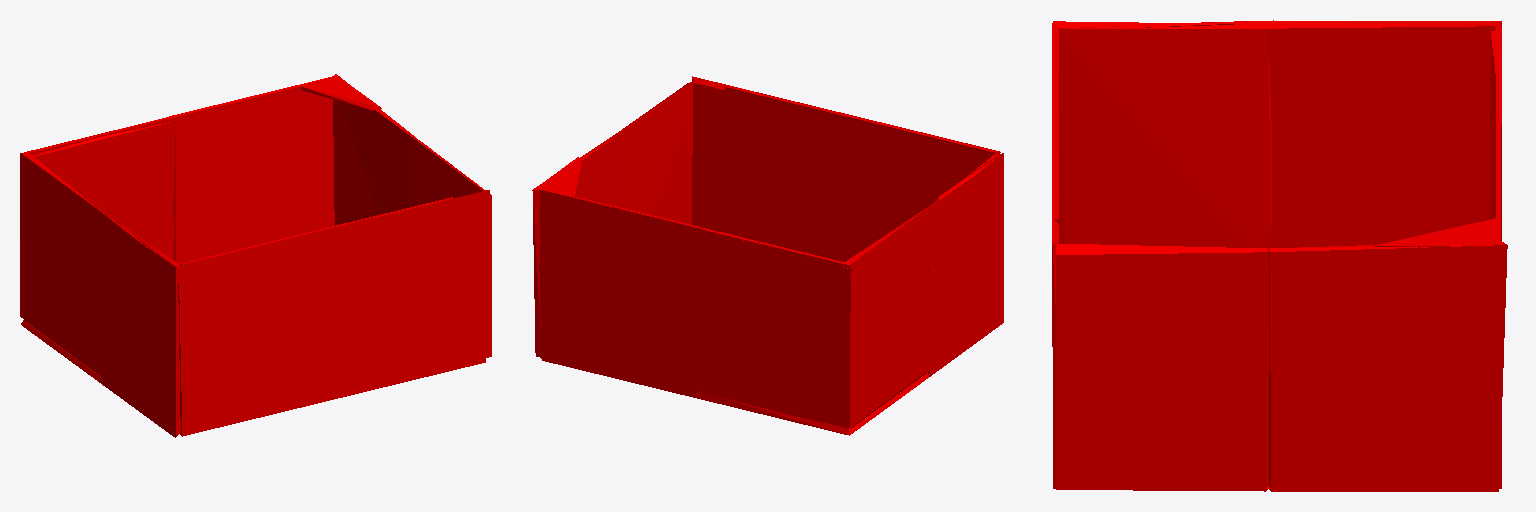
robot.urdf — root:
<robot name="root">
  <link name="link_openbox_convex_piece_0">

    <contact>
      <lateral_friction value="1.0"/>
      <rolling_friction value="0.0"/>
      <inertia_scaling value="3.0"/>
      <contact_cfm value="0.0"/>
      <contact_erp value="1.0"/>
    </contact>

    <inertial>
      <origin rpy="0 0 0" xyz="0 0 0"/>
      <mass value="0.1"/>
      <inertia ixx="-4.46E-06" ixy="-4.55E-07" ixz="1.95E-06" iyy="-2.47E-06" iyz="8.51E-08" izz="2.17E-06"/>
    </inertial>
    <visual>
      <origin rpy="0 0 0" xyz="0 0 0"/>
      <geometry>
        <mesh filename="openbox_convex_piece_0.obj" scale="1.0000E+00 1.0000E+00 1.0000E+00"/>
      </geometry>
      <material name="">
        <color rgba="1 0 0 1"/>
      </material>
    </visual>
    <collision>
      <origin rpy="0 0 0" xyz="0 0 0"/>
      <geometry>
        <mesh filename="openbox_convex_piece_0.obj" scale="1.0000E+00 1.0000E+00 1.0000E+00"/>
      </geometry>
    </collision>
  </link>

  <link name="link_openbox_convex_piece_1">
    <inertial>
      <origin rpy="0 0 0" xyz="0 0 0"/>
      <mass value="8.54E-11"/>
      <inertia ixx="-3.41E-07" ixy="-9.73E-07" ixz="3.02E-06" iyy="1.82E-07" iyz="-1.06E-06" izz="2.38E-06"/>
    </inertial>
    <visual>
      <origin rpy="0 0 0" xyz="0 0 0"/>
      <geometry>
        <mesh filename="openbox_convex_piece_1.obj" scale="1.0000E+00 1.0000E+00 1.0000E+00"/>
      </geometry>
      <material name="">
        <color rgba="1 0 0 1"/>
      </material>
    </visual>
    <collision>
      <origin rpy="0 0 0" xyz="0 0 0"/>
      <geometry>
        <mesh filename="openbox_convex_piece_1.obj" scale="1.0000E+00 1.0000E+00 1.0000E+00"/>
      </geometry>
    </collision>
  </link>

  <joint name="link_openbox_convex_piece_1_joint" type="fixed">
    <origin rpy="0 0 0" xyz="0 0 0"/>
    <parent link="link_openbox_convex_piece_0"/>
    <child link="link_openbox_convex_piece_1"/>
  </joint>

  <link name="link_openbox_convex_piece_3">
    <inertial>
      <origin rpy="0 0 0" xyz="0 0 0"/>
      <mass value="9.26E-11"/>
      <inertia ixx="6.00E-06" ixy="-7.64E-06" ixz="1.70E-06" iyy="3.52E-06" iyz="-2.53E-07" izz="1.51E-05"/>
    </inertial>
    <visual>
      <origin rpy="0 0 0" xyz="0 0 0"/>
      <geometry>
        <mesh filename="openbox_convex_piece_3.obj" scale="1.0000E+00 1.0000E+00 1.0000E+00"/>
      </geometry>
      <material name="">
        <color rgba="1 0 0 1"/>
      </material>
    </visual>
    <collision>
      <origin rpy="0 0 0" xyz="0 0 0"/>
      <geometry>
        <mesh filename="openbox_convex_piece_3.obj" scale="1.0000E+00 1.0000E+00 1.0000E+00"/>
      </geometry>
    </collision>
  </link>

  <joint name="link_openbox_convex_piece_3_joint" type="fixed">
    <origin rpy="0 0 0" xyz="0 0 0"/>
    <parent link="link_openbox_convex_piece_1"/>
    <child link="link_openbox_convex_piece_3"/>
  </joint>

  <link name="link_openbox_convex_piece_4">
    <inertial>
      <origin rpy="0 0 0" xyz="0 0 0"/>
      <mass value="1.62E-10"/>
      <inertia ixx="1.40E-05" ixy="-7.57E-06" ixz="6.10E-06" iyy="9.20E-07" iyz="-7.28E-06" izz="1.99E-05"/>
    </inertial>
    <visual>
      <origin rpy="0 0 0" xyz="0 0 0"/>
      <geometry>
        <mesh filename="openbox_convex_piece_4.obj" scale="1.0000E+00 1.0000E+00 1.0000E+00"/>
      </geometry>
      <material name="">
        <color rgba="1 0 0 1"/>
      </material>
    </visual>
    <collision>
      <origin rpy="0 0 0" xyz="0 0 0"/>
      <geometry>
        <mesh filename="openbox_convex_piece_4.obj" scale="1.0000E+00 1.0000E+00 1.0000E+00"/>
      </geometry>
    </collision>
  </link>

  <joint name="link_openbox_convex_piece_4_joint" type="fixed">
    <origin rpy="0 0 0" xyz="0 0 0"/>
    <parent link="link_openbox_convex_piece_3"/>
    <child link="link_openbox_convex_piece_4"/>
  </joint>

  <link name="link_openbox_convex_piece_5">
    <inertial>
      <origin rpy="0 0 0" xyz="0 0 0"/>
      <mass value="8.19E-11"/>
      <inertia ixx="-3.14E-07" ixy="8.84E-07" ixz="-1.99E-07" iyy="-5.76E-08" iyz="-1.02E-06" izz="2.07E-06"/>
    </inertial>
    <visual>
      <origin rpy="0 0 0" xyz="0 0 0"/>
      <geometry>
        <mesh filename="openbox_convex_piece_5.obj" scale="1.0000E+00 1.0000E+00 1.0000E+00"/>
      </geometry>
      <material name="">
        <color rgba="1 0 0 1"/>
      </material>
    </visual>
    <collision>
      <origin rpy="0 0 0" xyz="0 0 0"/>
      <geometry>
        <mesh filename="openbox_convex_piece_5.obj" scale="1.0000E+00 1.0000E+00 1.0000E+00"/>
      </geometry>
    </collision>
  </link>

  <joint name="link_openbox_convex_piece_5_joint" type="fixed">
    <origin rpy="0 0 0" xyz="0 0 0"/>
    <parent link="link_openbox_convex_piece_4"/>
    <child link="link_openbox_convex_piece_5"/>
  </joint>

  <link name="link_openbox_convex_piece_6">
    <inertial>
      <origin rpy="0 0 0" xyz="0 0 0"/>
      <mass value="4.02E-12"/>
      <inertia ixx="6.30E-07" ixy="-6.57E-08" ixz="4.44E-08" iyy="-3.40E-08" iyz="2.11E-07" izz="7.64E-07"/>
    </inertial>
    <visual>
      <origin rpy="0 0 0" xyz="0 0 0"/>
      <geometry>
        <mesh filename="openbox_convex_piece_6.obj" scale="1.0000E+00 1.0000E+00 1.0000E+00"/>
      </geometry>
      <material name="">
        <color rgba="1 0 0 1"/>
      </material>
    </visual>
    <collision>
      <origin rpy="0 0 0" xyz="0 0 0"/>
      <geometry>
        <mesh filename="openbox_convex_piece_6.obj" scale="1.0000E+00 1.0000E+00 1.0000E+00"/>
      </geometry>
    </collision>
  </link>

  <joint name="link_openbox_convex_piece_6_joint" type="fixed">
    <origin rpy="0 0 0" xyz="0 0 0"/>
    <parent link="link_openbox_convex_piece_5"/>
    <child link="link_openbox_convex_piece_6"/>
  </joint>
  
  <link name="link_openbox_convex_piece_7">
    <inertial>
      <origin rpy="0 0 0" xyz="0 0 0"/>
      <mass value="1.64E-10"/>
      <inertia ixx="2.41E-05" ixy="7.88E-06" ixz="2.12E-06" iyy="-2.86E-06" iyz="-1.78E-06" izz="3.10E-05"/>
    </inertial>
    <visual>
      <origin rpy="0 0 0" xyz="0 0 0"/>
      <geometry>
        <mesh filename="openbox_convex_piece_7.obj" scale="1.0000E+00 1.0000E+00 1.0000E+00"/>
      </geometry>
      <material name="">
        <color rgba="1 0 0 1"/>
      </material>
    </visual>
    <collision>
      <origin rpy="0 0 0" xyz="0 0 0"/>
      <geometry>
        <mesh filename="openbox_convex_piece_7.obj" scale="1.0000E+00 1.0000E+00 1.0000E+00"/>
      </geometry>
    </collision>
  </link>

  <joint name="link_openbox_convex_piece_7_joint" type="fixed">
    <origin rpy="0 0 0" xyz="0 0 0"/>
    <parent link="link_openbox_convex_piece_6"/>
    <child link="link_openbox_convex_piece_7"/>
  </joint>
  
  <link name="link_openbox_convex_piece_8">
    <inertial>
      <origin rpy="0 0 0" xyz="0 0 0"/>
      <mass value="6.57E-12"/>
      <inertia ixx="8.20E-07" ixy="5.85E-07" ixz="2.96E-07" iyy="1.80E-07" iyz="3.11E-07" izz="1.27E-06"/>
    </inertial>
    <visual>
      <origin rpy="0 0 0" xyz="0 0 0"/>
      <geometry>
        <mesh filename="openbox_convex_piece_8.obj" scale="1.0000E+00 1.0000E+00 1.0000E+00"/>
      </geometry>
      <material name="">
        <color rgba="1 0 0 1"/>
      </material>
    </visual>
    <collision>
      <origin rpy="0 0 0" xyz="0 0 0"/>
      <geometry>
        <mesh filename="openbox_convex_piece_8.obj" scale="1.0000E+00 1.0000E+00 1.0000E+00"/>
      </geometry>
    </collision>
  </link>

  <joint name="link_openbox_convex_piece_8_joint" type="fixed">
    <origin rpy="0 0 0" xyz="0 0 0"/>
    <parent link="link_openbox_convex_piece_7"/>
    <child link="link_openbox_convex_piece_8"/>
  </joint>
  
  <link name="link_openbox_convex_piece_9">
    <inertial>
      <origin rpy="0 0 0" xyz="0 0 0"/>
      <mass value="1.60E-10"/>
      <inertia ixx="-3.20E-06" ixy="-3.40E-06" ixz="3.28E-06" iyy="5.91E-06" iyz="-2.59E-07" izz="1.23E-05"/>
    </inertial>
    <visual>
      <origin rpy="0 0 0" xyz="0 0 0"/>
      <geometry>
        <mesh filename="openbox_convex_piece_9.obj" scale="1.0000E+00 1.0000E+00 1.0000E+00"/>
      </geometry>
      <material name="">
        <color rgba="1 0 0 1"/>
      </material>
    </visual>
    <collision>
      <origin rpy="0 0 0" xyz="0 0 0"/>
      <geometry>
        <mesh filename="openbox_convex_piece_9.obj" scale="1.0000E+00 1.0000E+00 1.0000E+00"/>
      </geometry>
    </collision>
  </link>

  <joint name="link_openbox_convex_piece_9_joint" type="fixed">
    <origin rpy="0 0 0" xyz="0 0 0"/>
    <parent link="link_openbox_convex_piece_8"/>
    <child link="link_openbox_convex_piece_9"/>
  </joint>
  
  <link name="link_openbox_convex_piece_10">
    <inertial>
      <origin rpy="0 0 0" xyz="0 0 0"/>
      <mass value="3.92E-12"/>
      <inertia ixx="-7.91E-08" ixy="3.61E-09" ixz="4.47E-08" iyy="-3.50E-08" iyz="-1.25E-08" izz="4.93E-08"/>
    </inertial>
    <visual>
      <origin rpy="0 0 0" xyz="0 0 0"/>
      <geometry>
        <mesh filename="openbox_convex_piece_10.obj" scale="1.0000E+00 1.0000E+00 1.0000E+00"/>
      </geometry>
      <material name="">
        <color rgba="1 0 0 1"/>
      </material>
    </visual>
    <collision>
      <origin rpy="0 0 0" xyz="0 0 0"/>
      <geometry>
        <mesh filename="openbox_convex_piece_10.obj" scale="1.0000E+00 1.0000E+00 1.0000E+00"/>
      </geometry>
    </collision>
  </link>
  
  <joint name="link_openbox_convex_piece_10_joint" type="fixed">
    <origin rpy="0 0 0" xyz="0 0 0"/>
    <parent link="link_openbox_convex_piece_9"/>
    <child link="link_openbox_convex_piece_10"/>
  </joint>

  <link name="link_openbox_convex_piece_12">
    <inertial>
      <origin rpy="0 0 0" xyz="0 0 0"/>
      <mass value="3.17E-12"/>
      <inertia ixx="2.64E-07" ixy="-2.72E-07" ixz="-5.69E-08" iyy="1.47E-07" iyz="1.24E-07" izz="5.44E-07"/>
    </inertial>
    <visual>
      <origin rpy="0 0 0" xyz="0 0 0"/>
      <geometry>
        <mesh filename="openbox_convex_piece_12.obj" scale="1.0000E+00 1.0000E+00 1.0000E+00"/>
      </geometry>
      <material name="">
        <color rgba="1 0 0 1"/>
      </material>
    </visual>
    <collision>
      <origin rpy="0 0 0" xyz="0 0 0"/>
      <geometry>
        <mesh filename="openbox_convex_piece_12.obj" scale="1.0000E+00 1.0000E+00 1.0000E+00"/>
      </geometry>
    </collision>
  </link>
  <joint name="link_openbox_convex_piece_12_joint" type="fixed">
    <origin rpy="0 0 0" xyz="0 0 0"/>
    <parent link="link_openbox_convex_piece_10"/>
    <child link="link_openbox_convex_piece_12"/>
  </joint>
  <link name="link_openbox_convex_piece_13">
    <inertial>
      <origin rpy="0 0 0" xyz="0 0 0"/>
      <mass value="9.40E-11"/>
      <inertia ixx="7.54E-06" ixy="3.20E-06" ixz="-7.45E-08" iyy="-2.50E-07" iyz="-4.14E-06" izz="1.01E-05"/>
    </inertial>
    <visual>
      <origin rpy="0 0 0" xyz="0 0 0"/>
      <geometry>
        <mesh filename="openbox_convex_piece_13.obj" scale="1.0000E+00 1.0000E+00 1.0000E+00"/>
      </geometry>
      <material name="">
        <color rgba="1 0 0 1"/>
      </material>
    </visual>
    <collision>
      <origin rpy="0 0 0" xyz="0 0 0"/>
      <geometry>
        <mesh filename="openbox_convex_piece_13.obj" scale="1.0000E+00 1.0000E+00 1.0000E+00"/>
      </geometry>
    </collision>
  </link>
  <joint name="link_openbox_convex_piece_13_joint" type="fixed">
    <origin rpy="0 0 0" xyz="0 0 0"/>
    <parent link="link_openbox_convex_piece_12"/>
    <child link="link_openbox_convex_piece_13"/>
  </joint>
  <link name="link_openbox_convex_piece_14">
    <inertial>
      <origin rpy="0 0 0" xyz="0 0 0"/>
      <mass value="1.27E-12"/>
      <inertia ixx="-2.15E-08" ixy="-1.57E-08" ixz="-2.27E-08" iyy="5.93E-08" iyz="7.09E-09" izz="9.09E-08"/>
    </inertial>
    <visual>
      <origin rpy="0 0 0" xyz="0 0 0"/>
      <geometry>
        <mesh filename="openbox_convex_piece_14.obj" scale="1.0000E+00 1.0000E+00 1.0000E+00"/>
      </geometry>
      <material name="">
        <color rgba="1 0 0 1"/>
      </material>
    </visual>
    <collision>
      <origin rpy="0 0 0" xyz="0 0 0"/>
      <geometry>
        <mesh filename="openbox_convex_piece_14.obj" scale="1.0000E+00 1.0000E+00 1.0000E+00"/>
      </geometry>
    </collision>
  </link>
  <joint name="link_openbox_convex_piece_14_joint" type="fixed">
    <origin rpy="0 0 0" xyz="0 0 0"/>
    <parent link="link_openbox_convex_piece_13"/>
    <child link="link_openbox_convex_piece_14"/>
  </joint>

  <link name="link_openbox_convex_piece_16">
    <inertial>
      <origin rpy="0 0 0" xyz="0 0 0"/>
      <mass value="1.53E-10"/>
      <inertia ixx="2.24E-05" ixy="-1.01E-05" ixz="2.64E-06" iyy="-1.08E-06" iyz="-5.41E-07" izz="3.07E-05"/>
    </inertial>
    <visual>
      <origin rpy="0 0 0" xyz="0 0 0"/>
      <geometry>
        <mesh filename="openbox_convex_piece_16.obj" scale="1.0000E+00 1.0000E+00 1.0000E+00"/>
      </geometry>
      <material name="">
        <color rgba="1 0 0 1"/>
      </material>
    </visual>
    <collision>
      <origin rpy="0 0 0" xyz="0 0 0"/>
      <geometry>
        <mesh filename="openbox_convex_piece_16.obj" scale="1.0000E+00 1.0000E+00 1.0000E+00"/>
      </geometry>
    </collision>
  </link>
  <joint name="link_openbox_convex_piece_16_joint" type="fixed">
    <origin rpy="0 0 0" xyz="0 0 0"/>
    <parent link="link_openbox_convex_piece_14"/>
    <child link="link_openbox_convex_piece_16"/>
  </joint>
  <link name="link_openbox_convex_piece_17">
    <inertial>
      <origin rpy="0 0 0" xyz="0 0 0"/>
      <mass value="1.72E-10"/>
      <inertia ixx="1.25E-05" ixy="1.36E-05" ixz="2.06E-06" iyy="4.64E-06" iyz="-7.63E-07" izz="2.75E-05"/>
    </inertial>
    <visual>
      <origin rpy="0 0 0" xyz="0 0 0"/>
      <geometry>
        <mesh filename="openbox_convex_piece_17.obj" scale="1.0000E+00 1.0000E+00 1.0000E+00"/>
      </geometry>
      <material name="">
        <color rgba="1 0 0 1"/>
      </material>
    </visual>
    <collision>
      <origin rpy="0 0 0" xyz="0 0 0"/>
      <geometry>
        <mesh filename="openbox_convex_piece_17.obj" scale="1.0000E+00 1.0000E+00 1.0000E+00"/>
      </geometry>
    </collision>
  </link>
  <joint name="link_openbox_convex_piece_17_joint" type="fixed">
    <origin rpy="0 0 0" xyz="0 0 0"/>
    <parent link="link_openbox_convex_piece_16"/>
    <child link="link_openbox_convex_piece_17"/>
  </joint>
  <link name="link_openbox_convex_piece_18">
    <inertial>
      <origin rpy="0 0 0" xyz="0 0 0"/>
      <mass value="1.50E-10"/>
      <inertia ixx="-3.07E-06" ixy="2.96E-06" ixz="1.70E-06" iyy="4.03E-06" iyz="-2.62E-07" izz="1.00E-05"/>
    </inertial>
    <visual>
      <origin rpy="0 0 0" xyz="0 0 0"/>
      <geometry>
        <mesh filename="openbox_convex_piece_18.obj" scale="1.0000E+00 1.0000E+00 1.0000E+00"/>
      </geometry>
      <material name="">
        <color rgba="1 0 0 1"/>
      </material>
    </visual>
    <collision>
      <origin rpy="0 0 0" xyz="0 0 0"/>
      <geometry>
        <mesh filename="openbox_convex_piece_18.obj" scale="1.0000E+00 1.0000E+00 1.0000E+00"/>
      </geometry>
    </collision>
  </link>
  <joint name="link_openbox_convex_piece_18_joint" type="fixed">
    <origin rpy="0 0 0" xyz="0 0 0"/>
    <parent link="link_openbox_convex_piece_17"/>
    <child link="link_openbox_convex_piece_18"/>
  </joint>
  <link name="link_openbox_convex_piece_19">
    <inertial>
      <origin rpy="0 0 0" xyz="0 0 0"/>
      <mass value="1.64E-10"/>
      <inertia ixx="-4.77E-06" ixy="5.27E-07" ixz="3.18E-06" iyy="-2.10E-06" iyz="9.12E-08" izz="2.87E-06"/>
    </inertial>
    <visual>
      <origin rpy="0 0 0" xyz="0 0 0"/>
      <geometry>
        <mesh filename="openbox_convex_piece_19.obj" scale="1.0000E+00 1.0000E+00 1.0000E+00"/>
      </geometry>
      <material name="">
        <color rgba="1 0 0 1"/>
      </material>
    </visual>
    <collision>
      <origin rpy="0 0 0" xyz="0 0 0"/>
      <geometry>
        <mesh filename="openbox_convex_piece_19.obj" scale="1.0000E+00 1.0000E+00 1.0000E+00"/>
      </geometry>
    </collision>
  </link>
  <joint name="link_openbox_convex_piece_19_joint" type="fixed">
    <origin rpy="0 0 0" xyz="0 0 0"/>
    <parent link="link_openbox_convex_piece_18"/>
    <child link="link_openbox_convex_piece_19"/>
  </joint>
</robot>

--- Render facts (derived) ---
3 views of the same robot in one strip: view 1: azimuth 30°, elevation 25°; view 2: azimuth 150°, elevation 25°; view 3: azimuth 270°, elevation 25° (orthographic).
Model root with 17 links and 16 joints (16 fixed), rooted at link_openbox_convex_piece_0, posed all joints at 0.
Links seen in each view (by area): view 1: link_openbox_convex_piece_19, link_openbox_convex_piece_0, link_openbox_convex_piece_7, link_openbox_convex_piece_9, link_openbox_convex_piece_3, link_openbox_convex_piece_16, link_openbox_convex_piece_17, link_openbox_convex_piece_18, link_openbox_convex_piece_6, link_openbox_convex_piece_8; view 2: link_openbox_convex_piece_7, link_openbox_convex_piece_16, link_openbox_convex_piece_0, link_openbox_convex_piece_3, link_openbox_convex_piece_9, link_openbox_convex_piece_19, link_openbox_convex_piece_18, link_openbox_convex_piece_17, link_openbox_convex_piece_4, link_openbox_convex_piece_10, link_openbox_convex_piece_8, link_openbox_convex_piece_6; view 3: link_openbox_convex_piece_17, link_openbox_convex_piece_18, link_openbox_convex_piece_9, link_openbox_convex_piece_3, link_openbox_convex_piece_12, link_openbox_convex_piece_8, link_openbox_convex_piece_10, link_openbox_convex_piece_0, link_openbox_convex_piece_16, link_openbox_convex_piece_6, link_openbox_convex_piece_14.
Link boxes in pixels (x1,y1,x2,y2): link_openbox_convex_piece_19: [178, 227, 342, 436]; link_openbox_convex_piece_0: [336, 190, 489, 397]; link_openbox_convex_piece_7: [172, 76, 334, 264]; link_openbox_convex_piece_9: [99, 211, 180, 437]; link_openbox_convex_piece_3: [22, 154, 100, 376]; link_openbox_convex_piece_16: [20, 115, 175, 318]; link_openbox_convex_piece_17: [331, 74, 416, 225]; link_openbox_convex_piece_18: [413, 139, 491, 357]; link_openbox_convex_piece_6: [26, 85, 300, 154]; link_openbox_convex_piece_8: [299, 78, 381, 110]; link_openbox_convex_piece_7: [539, 189, 699, 397]; link_openbox_convex_piece_16: [693, 227, 850, 427]; link_openbox_convex_piece_0: [692, 76, 843, 259]; link_openbox_convex_piece_3: [850, 208, 928, 428]; link_openbox_convex_piece_9: [928, 154, 1003, 376]; link_openbox_convex_piece_19: [836, 113, 1000, 261]; link_openbox_convex_piece_18: [615, 81, 693, 224]; link_openbox_convex_piece_17: [532, 135, 619, 357]; link_openbox_convex_piece_4: [697, 372, 928, 435]; link_openbox_convex_piece_10: [725, 85, 995, 155]; link_openbox_convex_piece_8: [543, 157, 581, 197]; link_openbox_convex_piece_6: [575, 197, 843, 266]; link_openbox_convex_piece_17: [1269, 241, 1507, 491]; link_openbox_convex_piece_18: [1056, 243, 1268, 491]; link_openbox_convex_piece_9: [1059, 20, 1273, 248]; link_openbox_convex_piece_3: [1269, 21, 1494, 247]; link_openbox_convex_piece_12: [1234, 21, 1501, 31]; link_openbox_convex_piece_8: [1374, 217, 1500, 247]; link_openbox_convex_piece_10: [1053, 26, 1058, 223]; link_openbox_convex_piece_0: [1052, 134, 1060, 488]; link_openbox_convex_piece_16: [1490, 30, 1501, 219]; link_openbox_convex_piece_6: [1496, 24, 1501, 217]; link_openbox_convex_piece_14: [1053, 21, 1233, 27].
Size in the robot's own frame: 536 by 459 by 277 metres.
17 mesh visuals loaded from 17 distinct referenced files (17 OBJ).